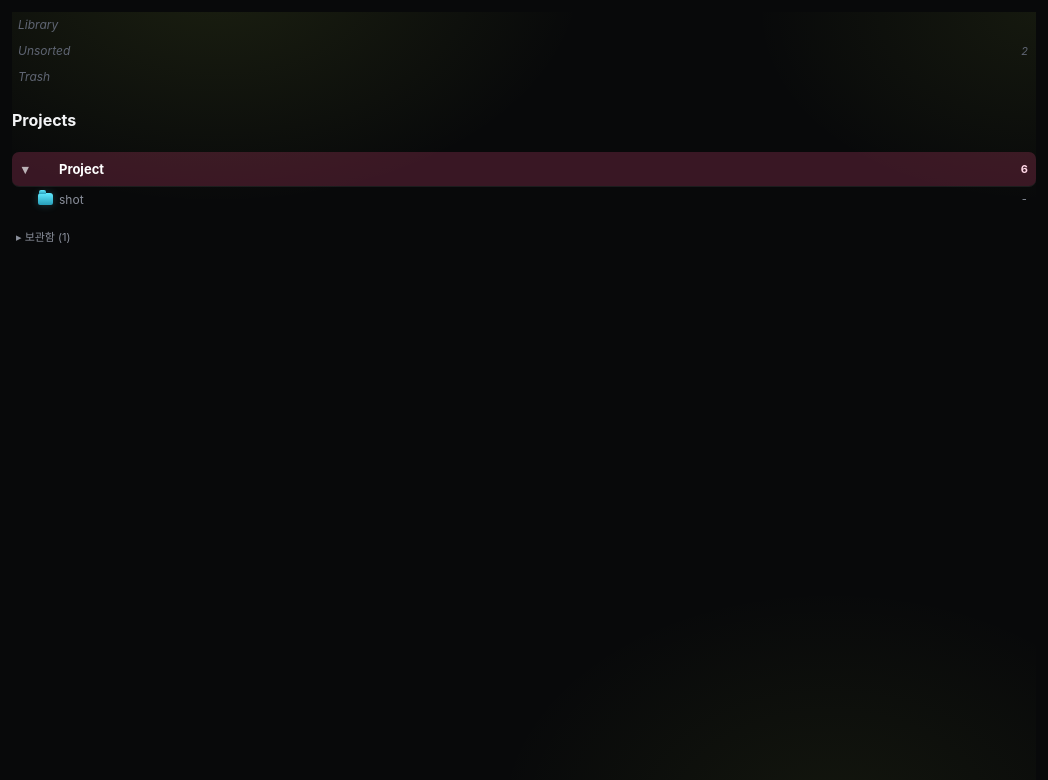
it: 보관함을 펼쳐도 보관 프로젝트의 전체 숫자를 선택 생성자의 수량으로 오인시키지 않는다
Click the button "▸ 보관함 (1)": (40, 237) [12,224,1036,246]
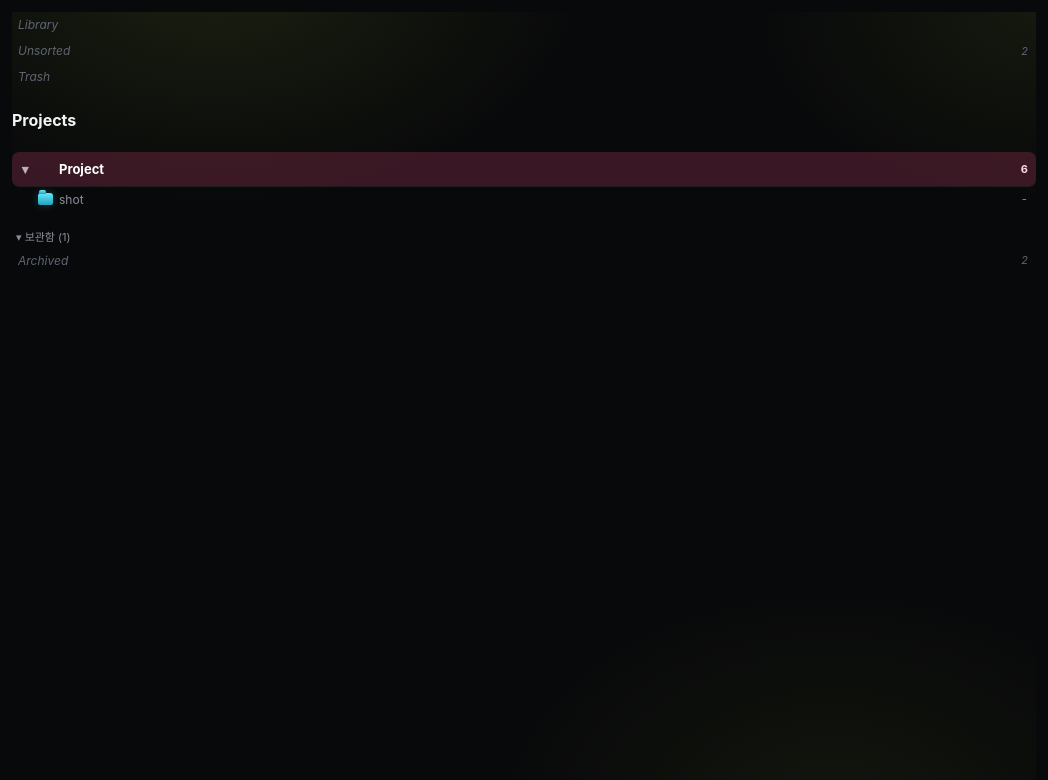
Expected: the 2nd text "2" is shown, [1021,253,1028,267]
